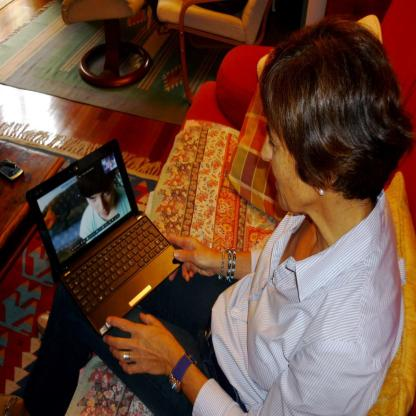board: (29, 136, 180, 350)
